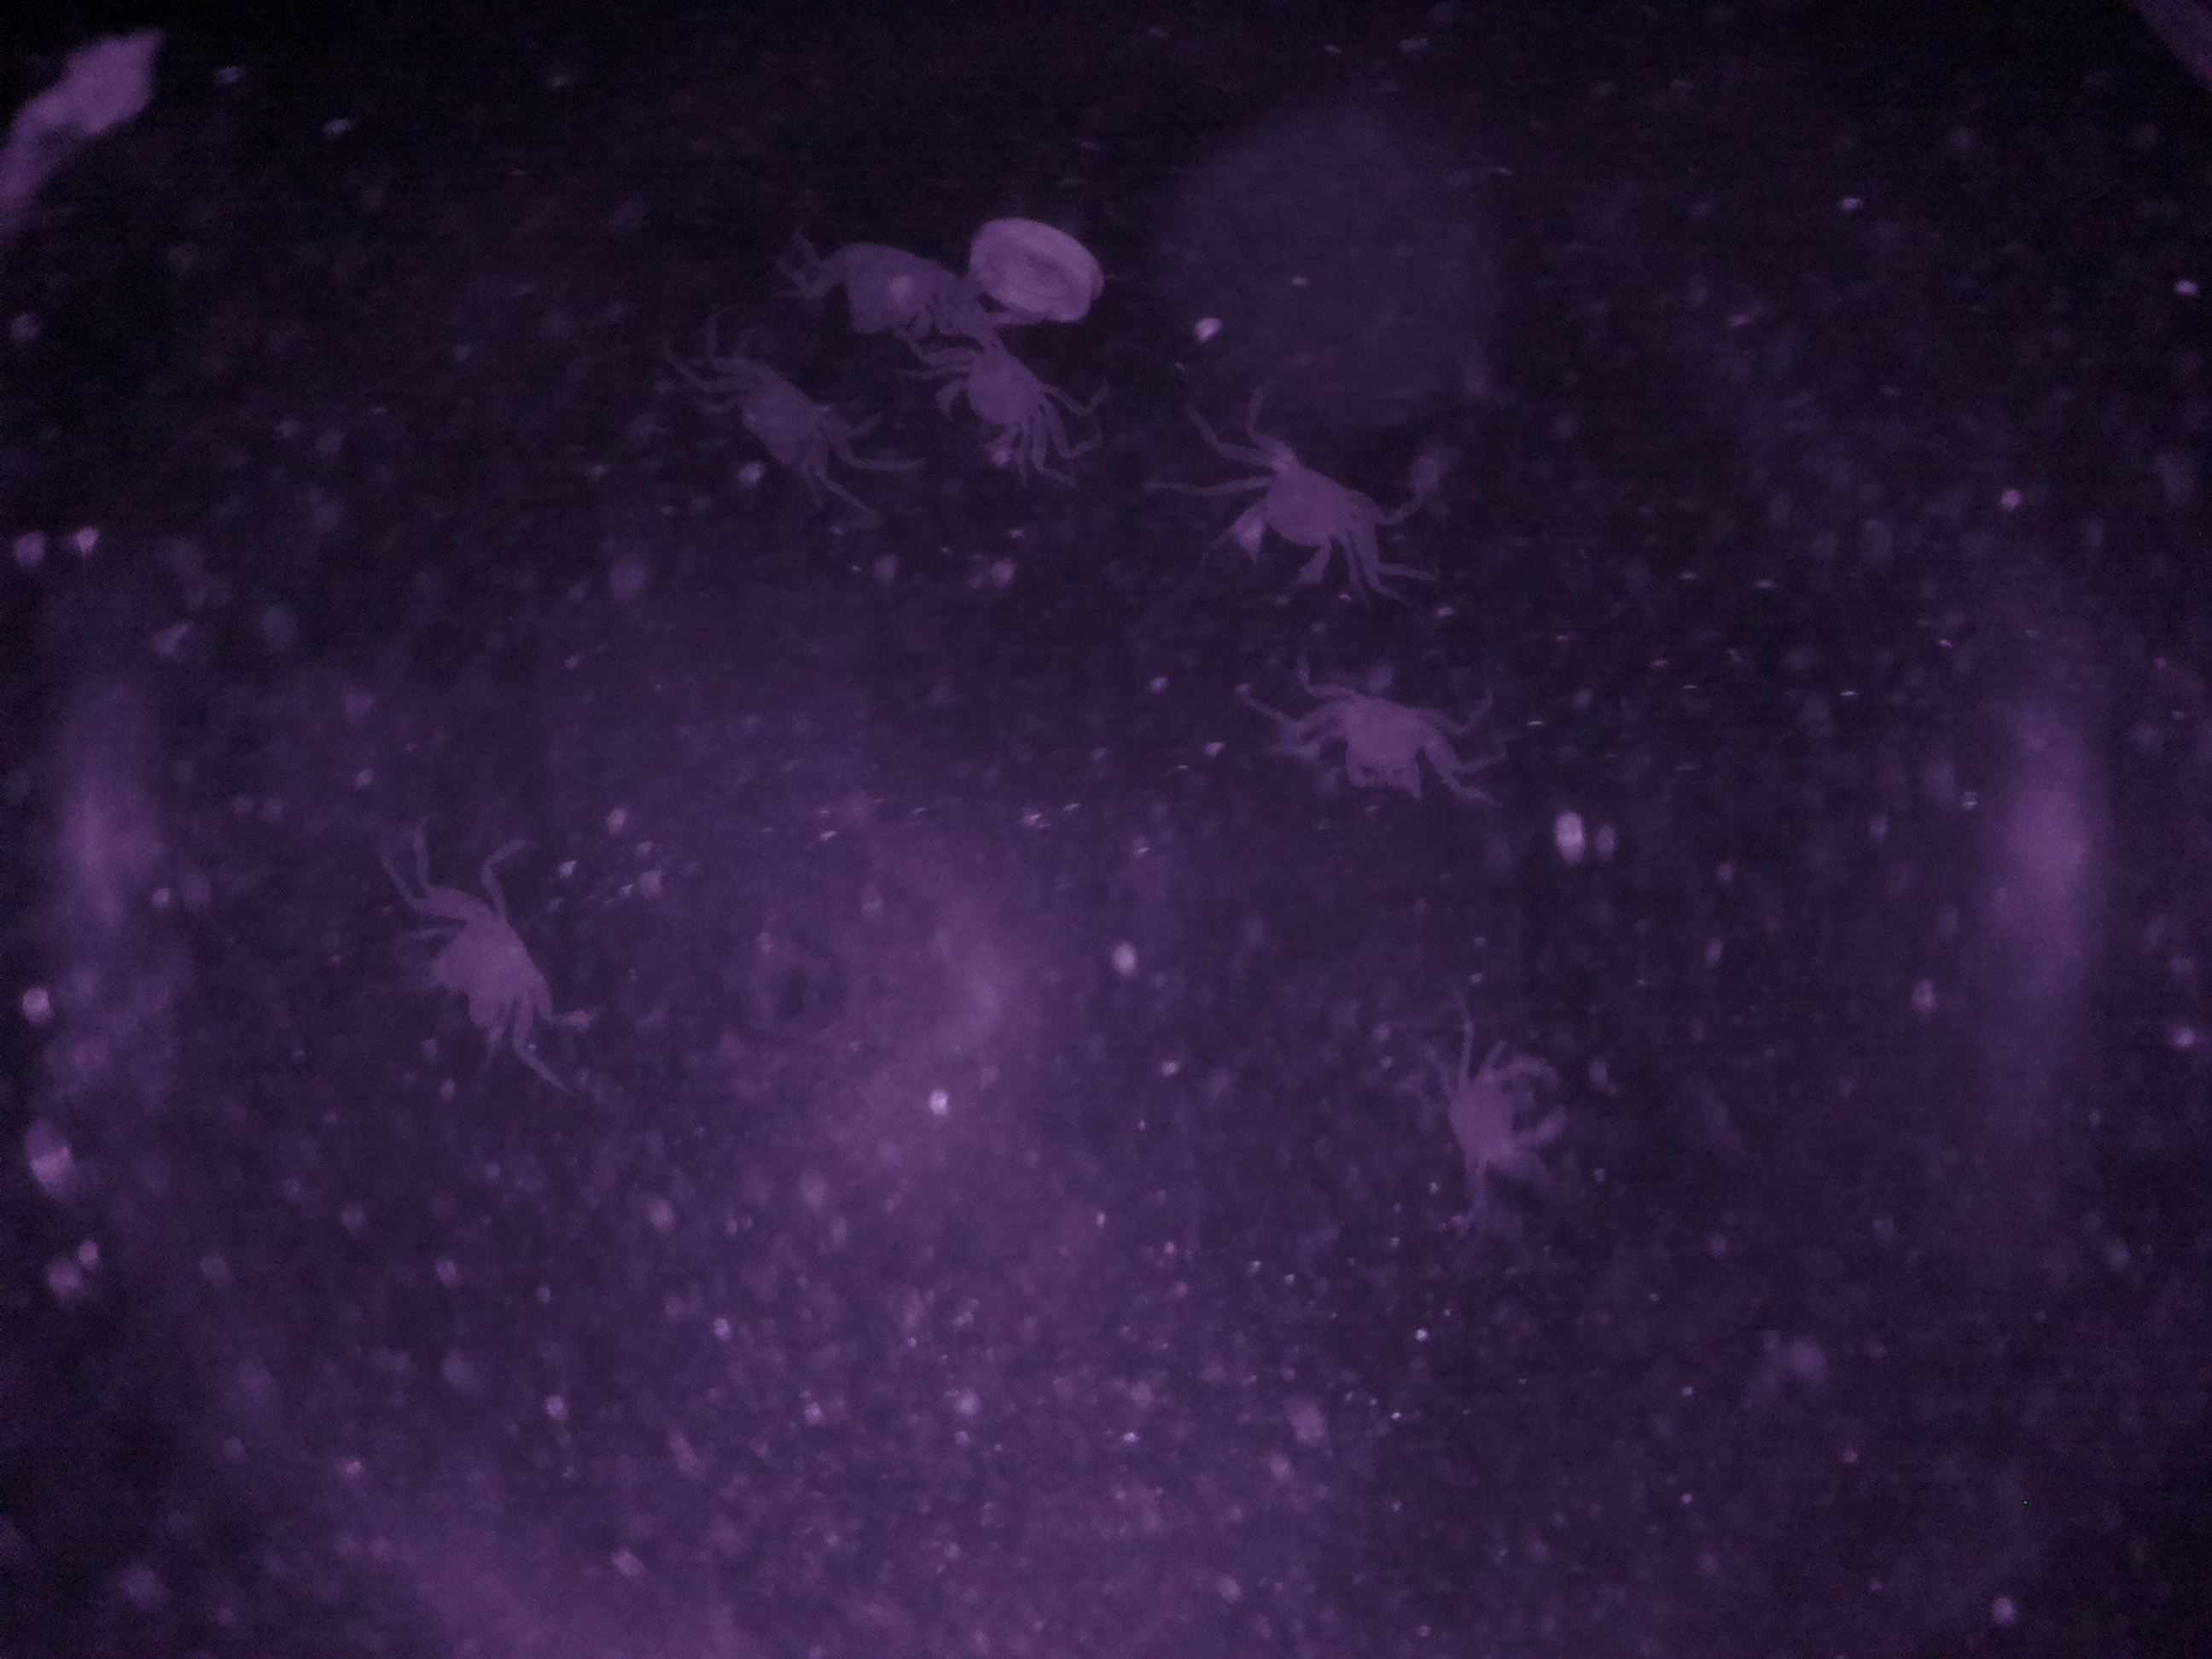Crab: (394, 836, 596, 1087), (1190, 410, 1430, 608), (921, 295, 1118, 486), (1277, 660, 1507, 816), (1420, 995, 1575, 1222)
